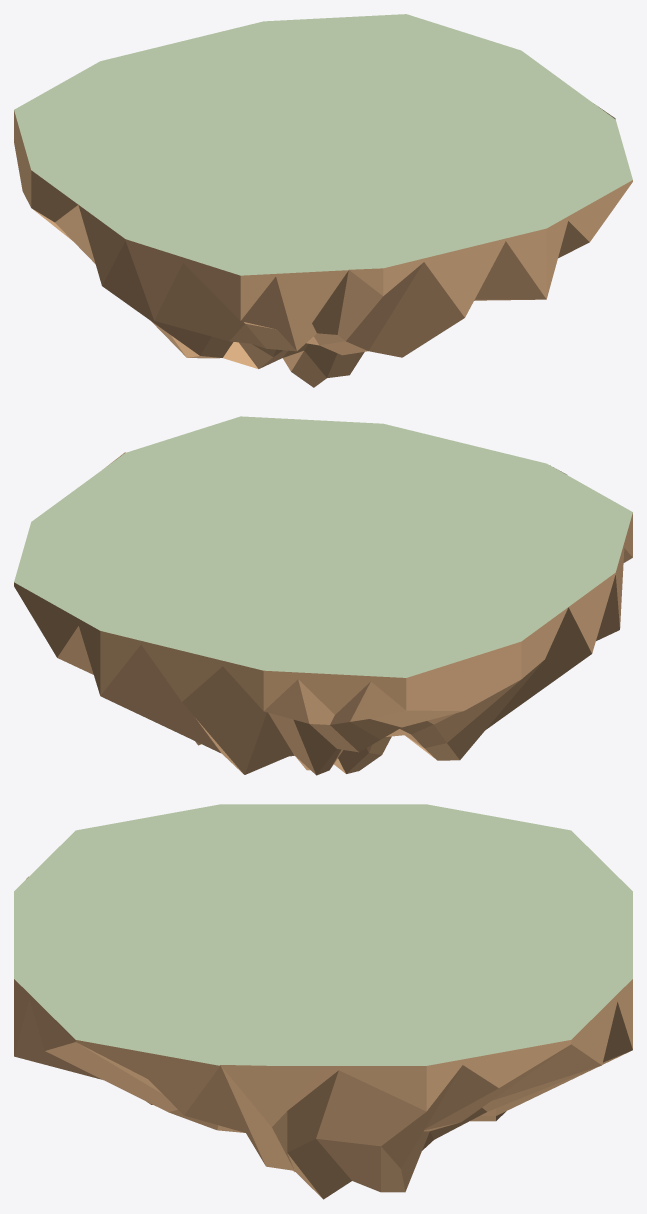
File: mizusawa_dodai.glb
3 renders of one model, top to bottom at view 1: azimuth 30°, elevation 25°; view 2: azimuth 150°, elevation 25°; view 3: azimuth 270°, elevation 25°, orthographic. The views are drawn at different scales.
Parts seen in each view (by area): view 1: 平面.006; view 2: 平面.006; view 3: 平面.006.
Boxes of the visible parts, x1,y1,x2,y2 form: 平面.006: (14,14,632,387); 平面.006: (14,416,632,775); 平面.006: (14,804,632,1199).
Size of the model in its own units: 60.39 by 26.94 by 60.38.
1 material, 1 textured.
